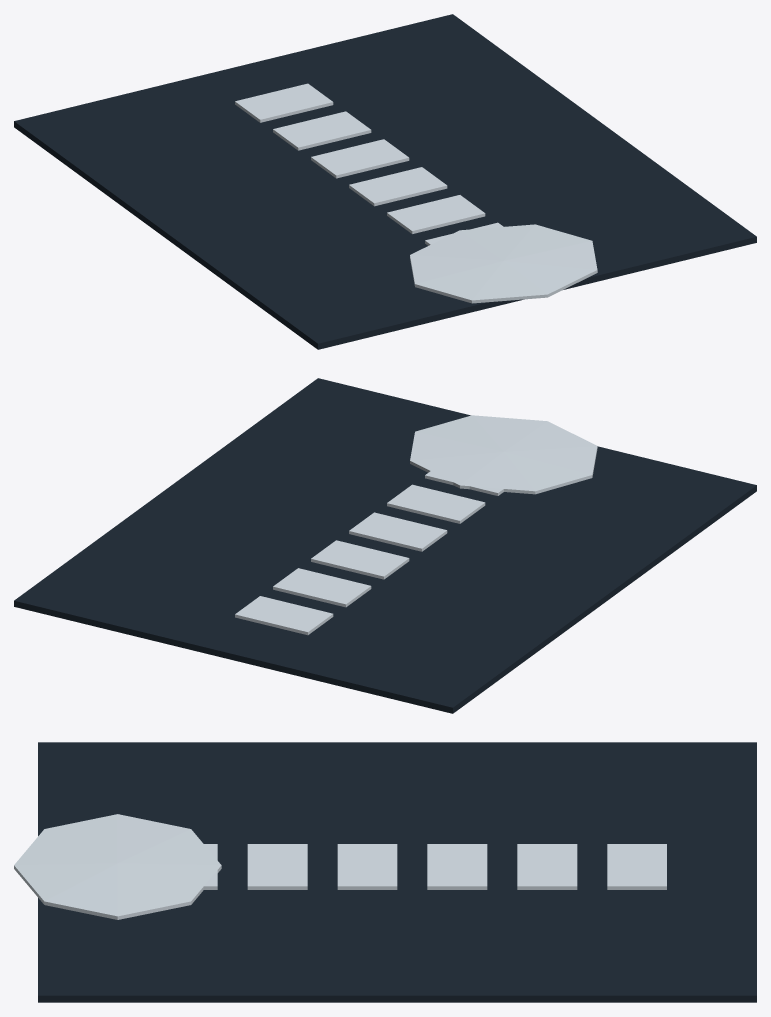
File: xrays.glb
3 renders of one model, top to bottom at view 1: azimuth 30°, elevation 25°; view 2: azimuth 150°, elevation 25°; view 3: azimuth 270°, elevation 25°, orthographic. The views are drawn at different scales.
Visible parts, largest first — view 1: film_xray_film, skull_xray_bone, bones_xray_bone (×5); view 2: film_xray_film, skull_xray_bone, bones_xray_bone (×5); view 3: film_xray_film, skull_xray_bone, bones_xray_bone (×5).
Part boxes in pixels (bbox=[...]): film_xray_film: bbox=[14, 14, 756, 349]; skull_xray_bone: bbox=[410, 224, 597, 303]; bones_xray_bone (×5): bbox=[235, 83, 485, 233]; film_xray_film: bbox=[14, 378, 756, 713]; skull_xray_bone: bbox=[410, 415, 597, 494]; bones_xray_bone (×5): bbox=[235, 484, 485, 635]; film_xray_film: bbox=[38, 742, 756, 1002]; skull_xray_bone: bbox=[14, 814, 221, 919]; bones_xray_bone (×5): bbox=[247, 844, 666, 889].
Size of the model in its own units: 0.3 by 0.007 by 0.372.
